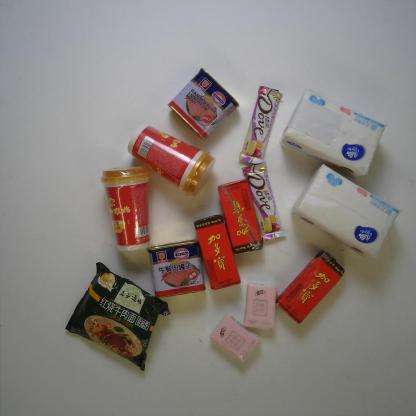Canned Food: (165, 65, 239, 146), (149, 234, 212, 299)
Chocolate: (233, 160, 288, 242), (238, 82, 287, 171)
Drink: (278, 249, 355, 323), (213, 178, 269, 256), (192, 211, 242, 287)
Instant Drink: (125, 120, 221, 198), (99, 164, 168, 258)
Instant Noodles: (63, 262, 175, 373)
Tissue: (292, 158, 404, 262), (283, 88, 392, 180), (206, 312, 262, 367), (239, 283, 279, 334)
